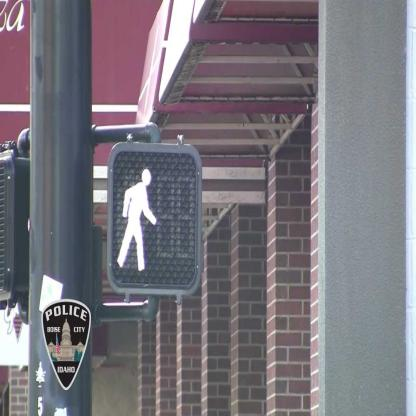Walk: (109, 143, 200, 292)
